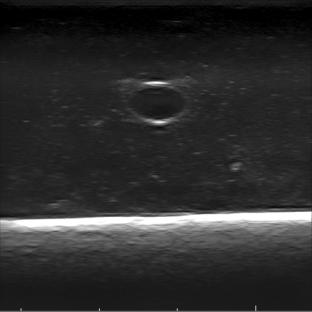vessel: (126, 80, 189, 125)
